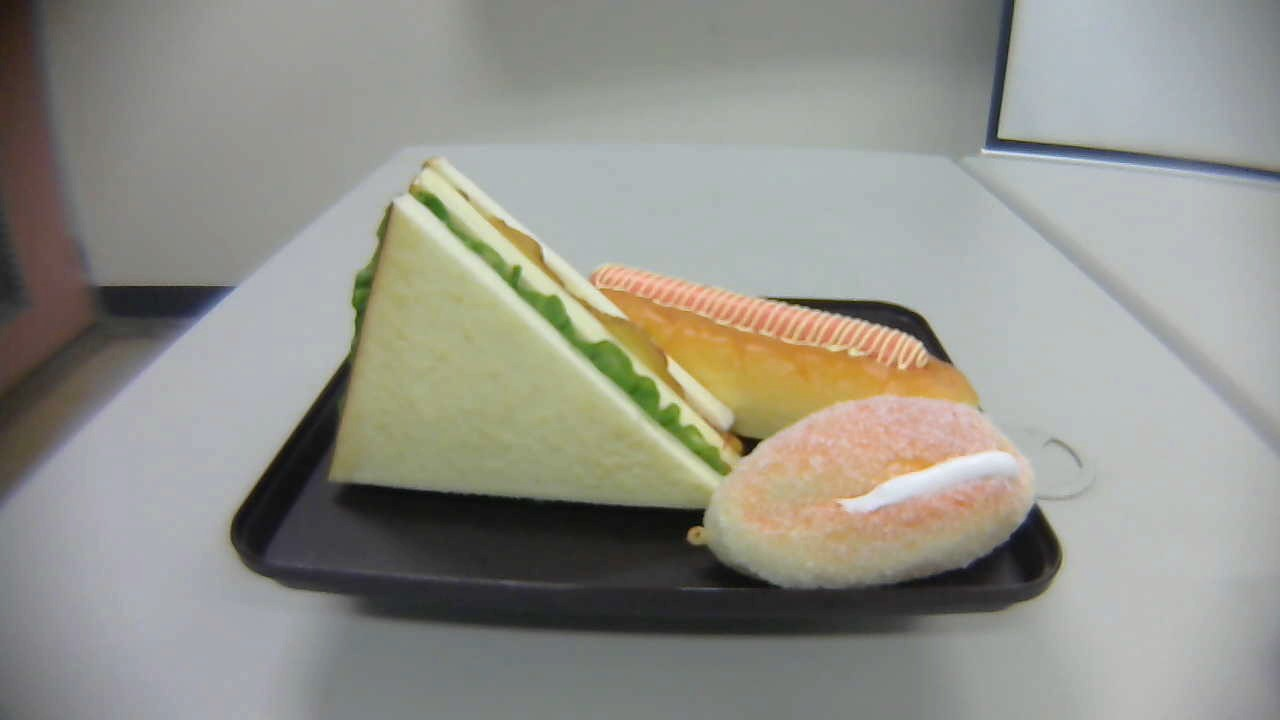coconut: (686, 395, 1036, 591)
hot dog: (586, 261, 984, 449)
sandwich: (329, 156, 770, 514)
